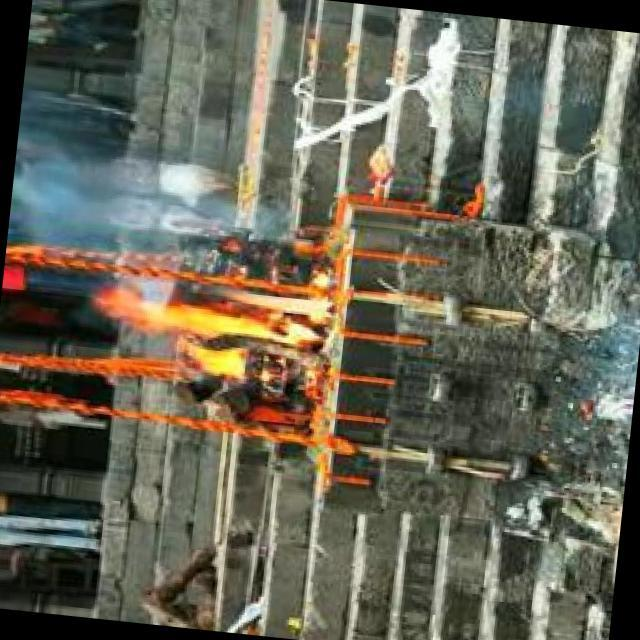Fire: (111, 270, 344, 389)
